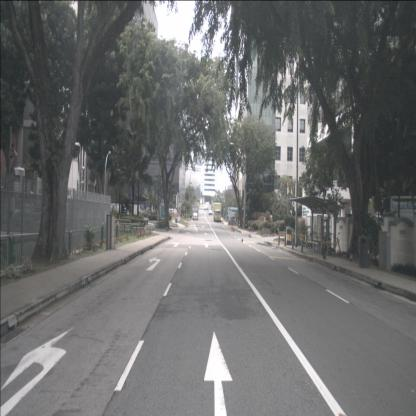vehicle-car: (192, 212, 198, 221), (208, 209, 213, 216), (204, 206, 208, 209)
vehicle-truck: (213, 203, 222, 222)
